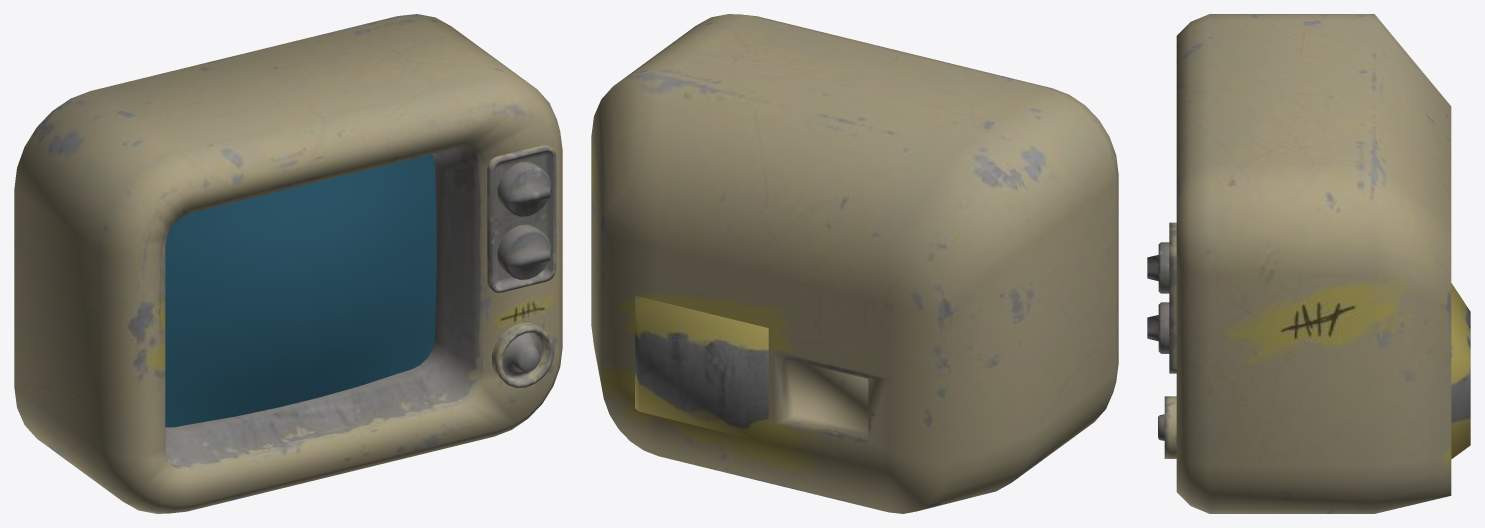
File: retro_tv_large.glb
3 views of the same model, side by side, from view 1: azimuth 30°, elevation 25°; view 2: azimuth 150°, elevation 25°; view 3: azimuth 270°, elevation 25° (orthographic). The views are drawn at different scales.
Visible parts, largest first — view 1: main_tv_body_low; view 2: main_tv_body_low; view 3: main_tv_body_low.
Part boxes in pixels (box(x1,y1,x2,y2)): main_tv_body_low: box(14, 14, 562, 513); main_tv_body_low: box(591, 14, 1118, 513); main_tv_body_low: box(1147, 14, 1470, 513).
Size of the model in its own units: 0.8809 by 0.6559 by 0.5624.
Materials: 2 (1 with a texture image).
